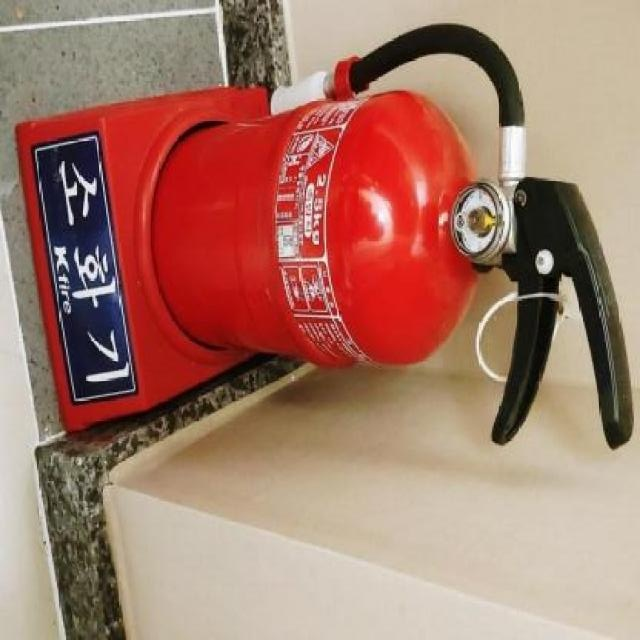fire extinguisher: (151, 22, 634, 450)
